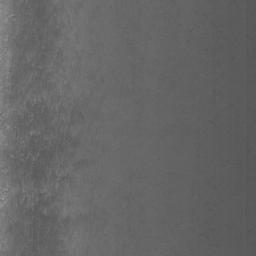Silk spot: (0, 0, 97, 256)
